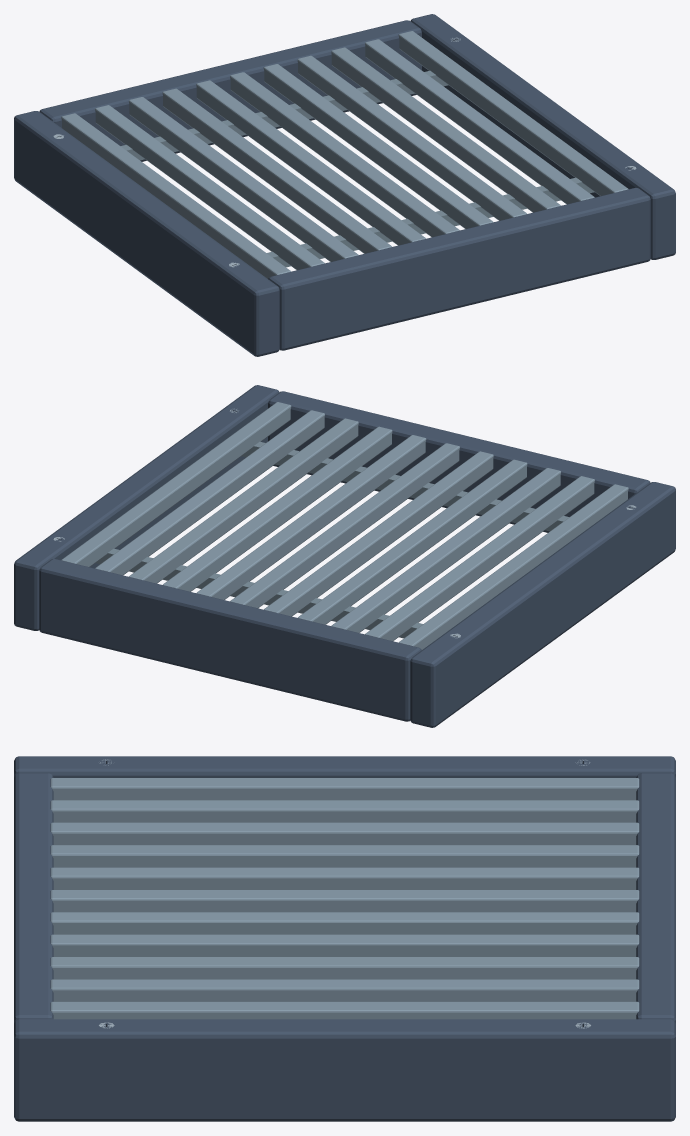
Rendered from grate.glb.
3 views of the same model, one above another, from view 1: azimuth 30°, elevation 25°; view 2: azimuth 150°, elevation 25°; view 3: azimuth 270°, elevation 25° (orthographic). The views are drawn at different scales.
Parts seen in each view (by area): view 1: grate; view 2: grate; view 3: grate.
Boxes of the visible parts, bbox=[...] form: grate: bbox=[14, 14, 675, 356]; grate: bbox=[14, 385, 675, 727]; grate: bbox=[14, 756, 675, 1121].
Bounding box in the file's own units: 1 × 0.15 × 1.
